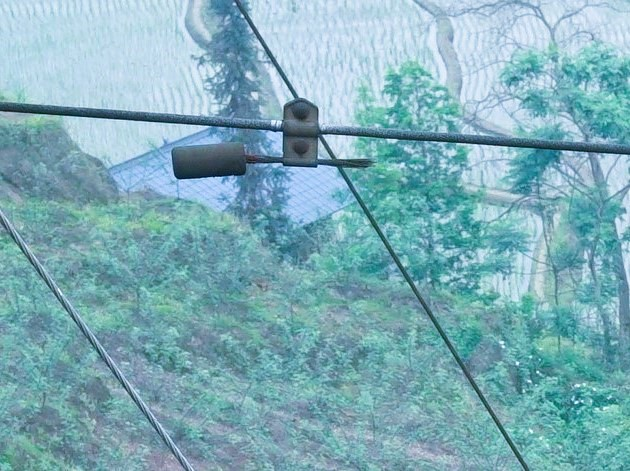Damage of shockproof hammer: (152, 92, 391, 190)
